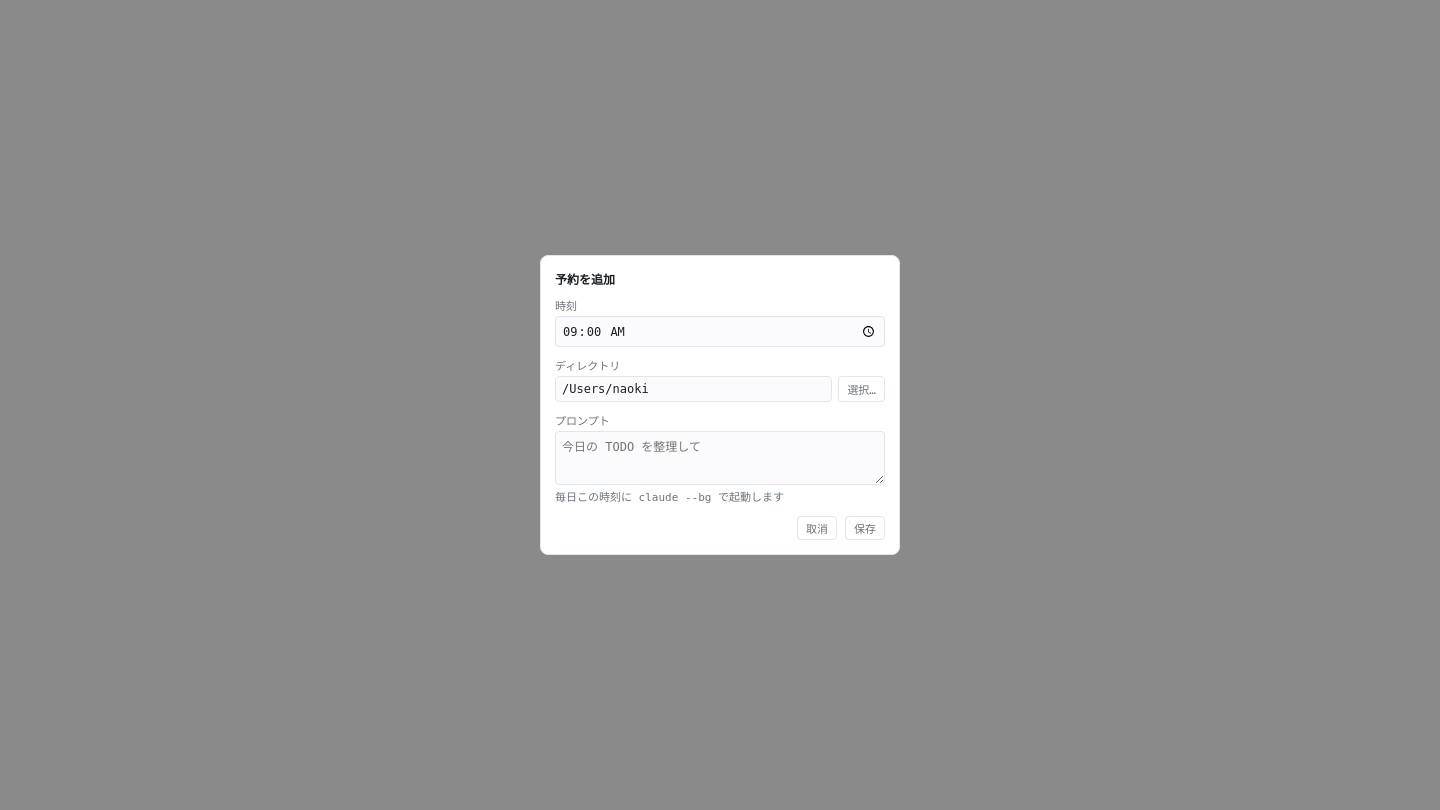
ScheduleDialog › プロンプトが空なら保存せずエラーを出す
Click the button "保存" at (865, 528), box x1=845 y1=516 x2=885 y2=540
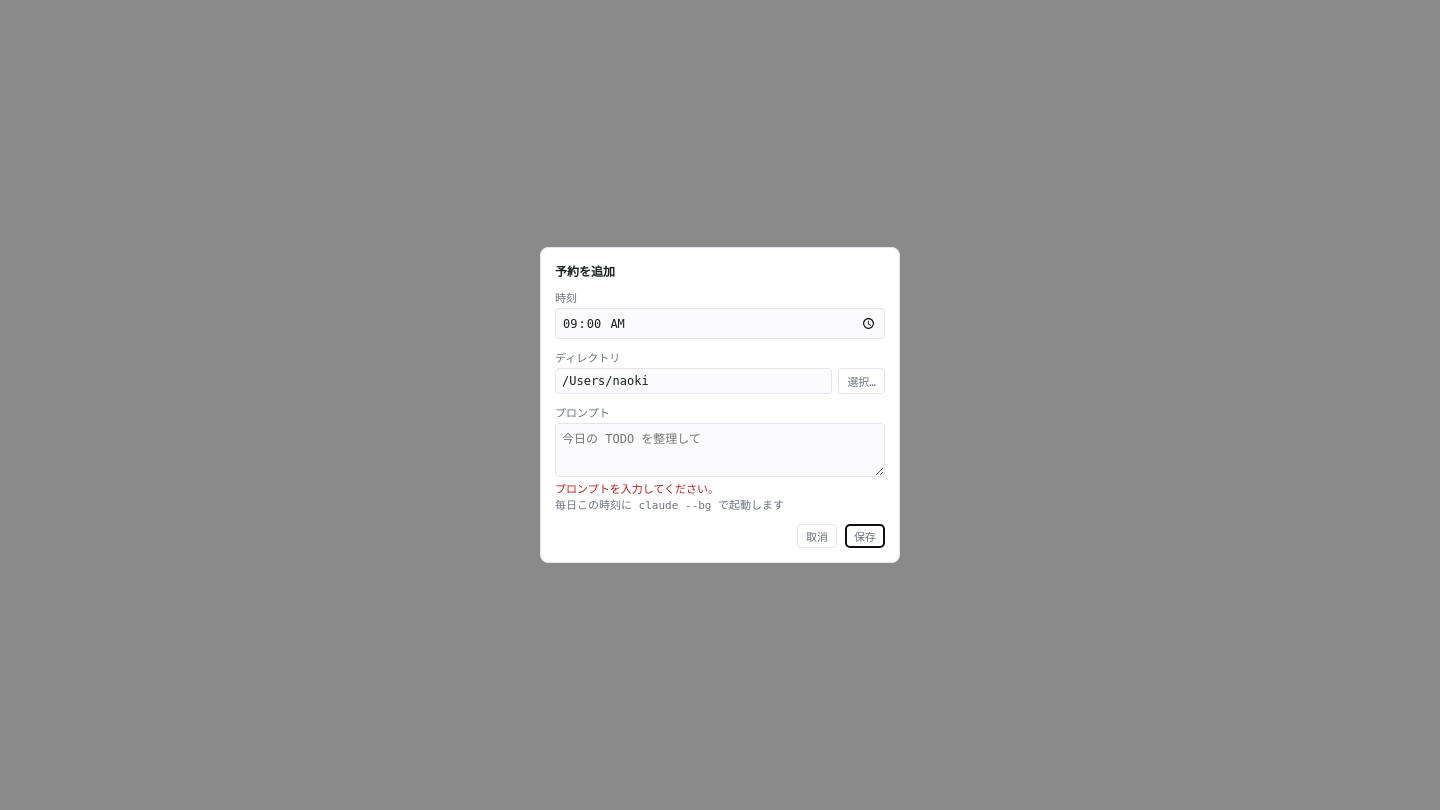
Check: the text "プロンプトを入力してください。" is shown, box x1=555 y1=483 x2=719 y2=496
